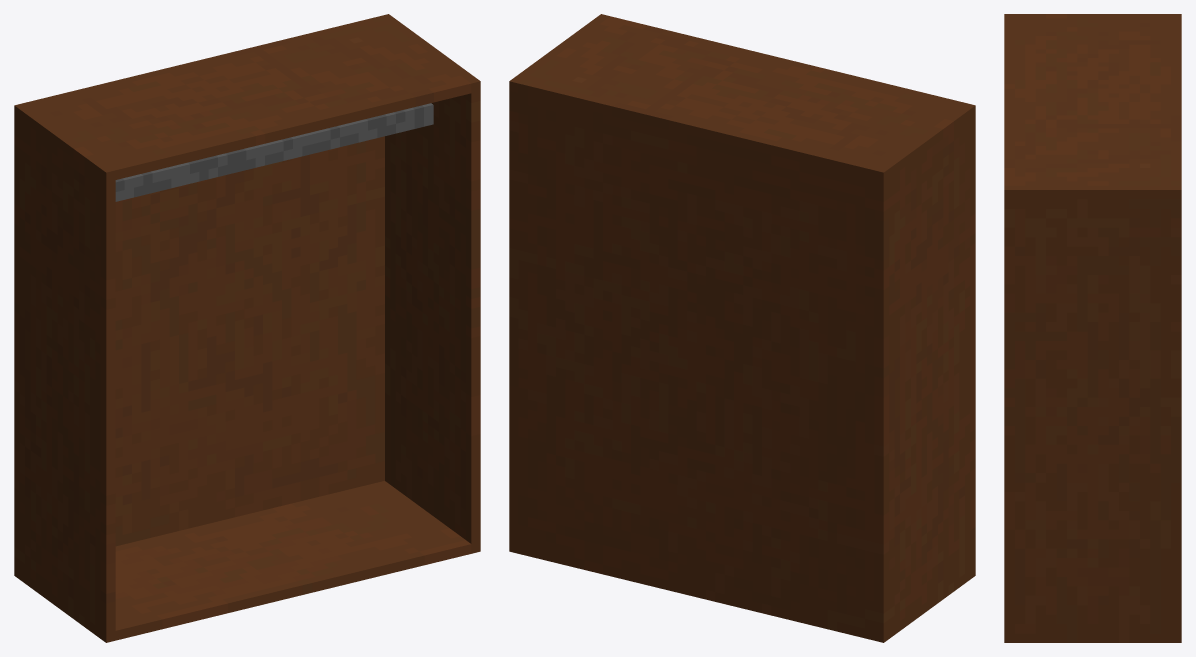
The model's file is wardrobe1.obj.
The picture shows the model from 3 angles, left to right: view 1: azimuth 30°, elevation 25°; view 2: azimuth 150°, elevation 25°; view 3: azimuth 270°, elevation 25°; orthographic projection. The views are drawn at different scales.
Size of the model in its own units: 4 by 4.8 by 1.7.
Materials: 1 (1 with a texture image).
